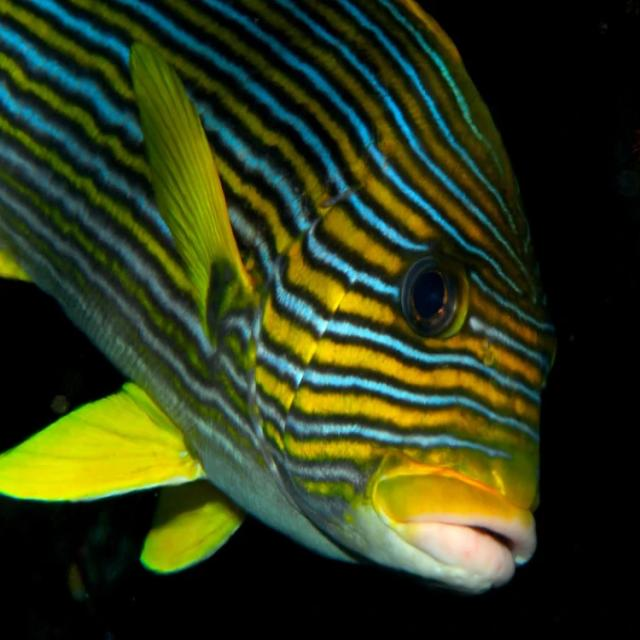RibbonedSweetlips: (0, 0, 557, 595)
